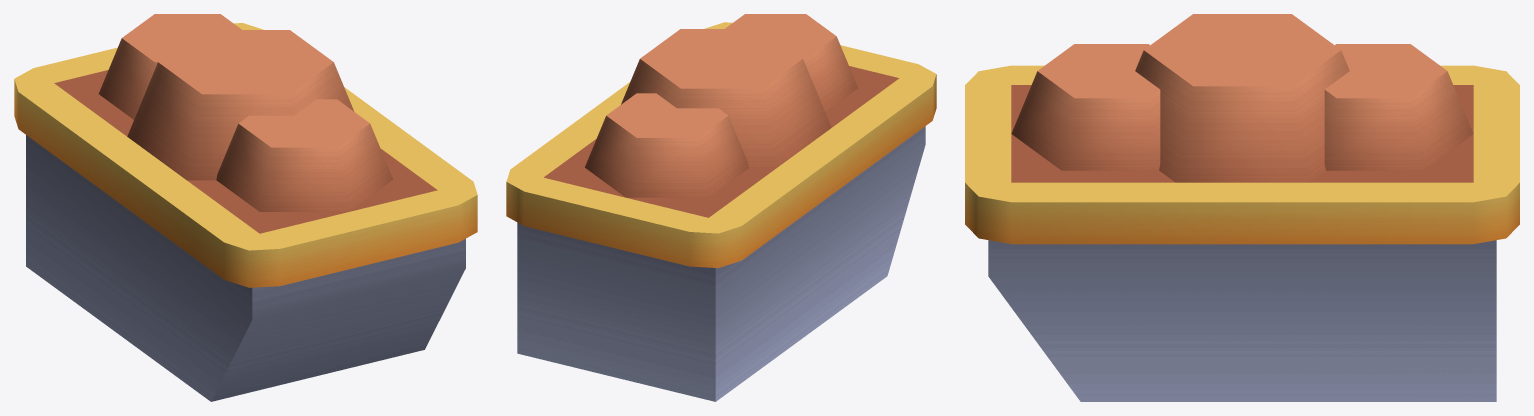
The model's file is kst_skip_rocks.glb.
3 renders of one model, left to right at view 1: azimuth 30°, elevation 25°; view 2: azimuth 150°, elevation 25°; view 3: azimuth 270°, elevation 25°, orthographic. The views are drawn at different scales.
Visible parts, largest first — view 1: skip-rocks; view 2: skip-rocks; view 3: skip-rocks.
Part boxes in pixels (x1=…): skip-rocks: x1=14, y1=14, x2=477, y2=401; skip-rocks: x1=506, y1=14, x2=936, y2=401; skip-rocks: x1=965, y1=14, x2=1519, y2=401.
Bounding box in the file's own units: 1.4 × 1.4 × 2.4.
1 material, 1 textured.
